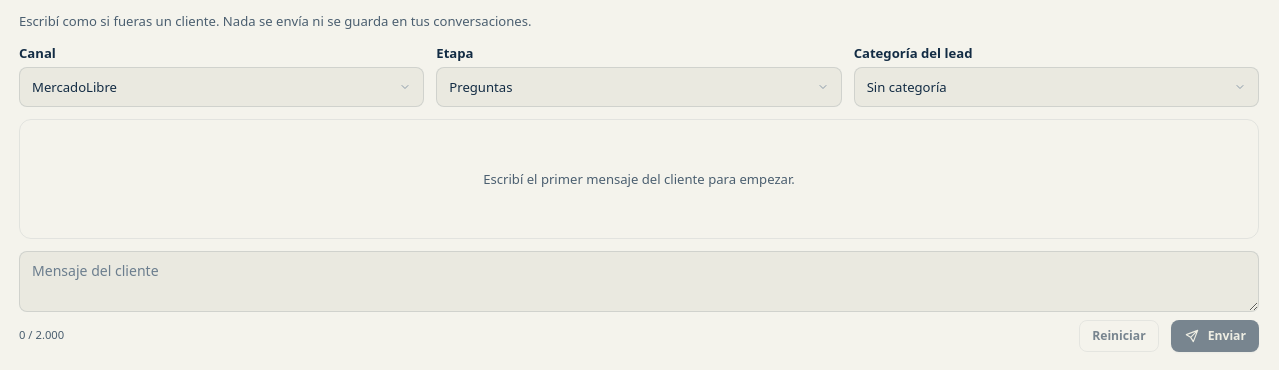
it: Playground › explains in its own words that the plan has no more trials
Type "¿Tienen stock?" into the text box with placeholder "Mensaje del cliente" at x=639, y=282, box [19,251,1259,312]
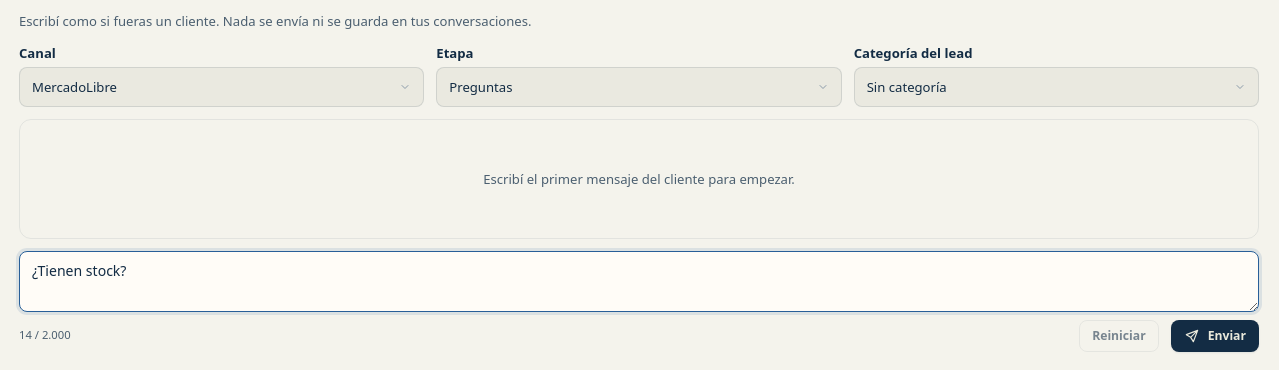
Click the button "Enviar" at x=1215, y=336, box [1171,320,1259,352]
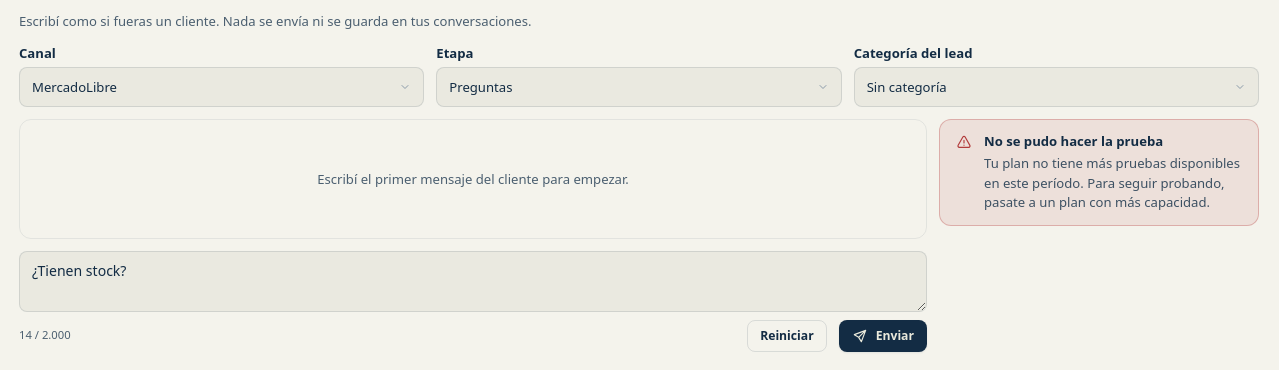
Result: the text "Tu plan no tiene más pruebas disponibles en este período. Para seguir probando, pasate a un plan con más capacidad." is shown at [984,154,1240,212]
